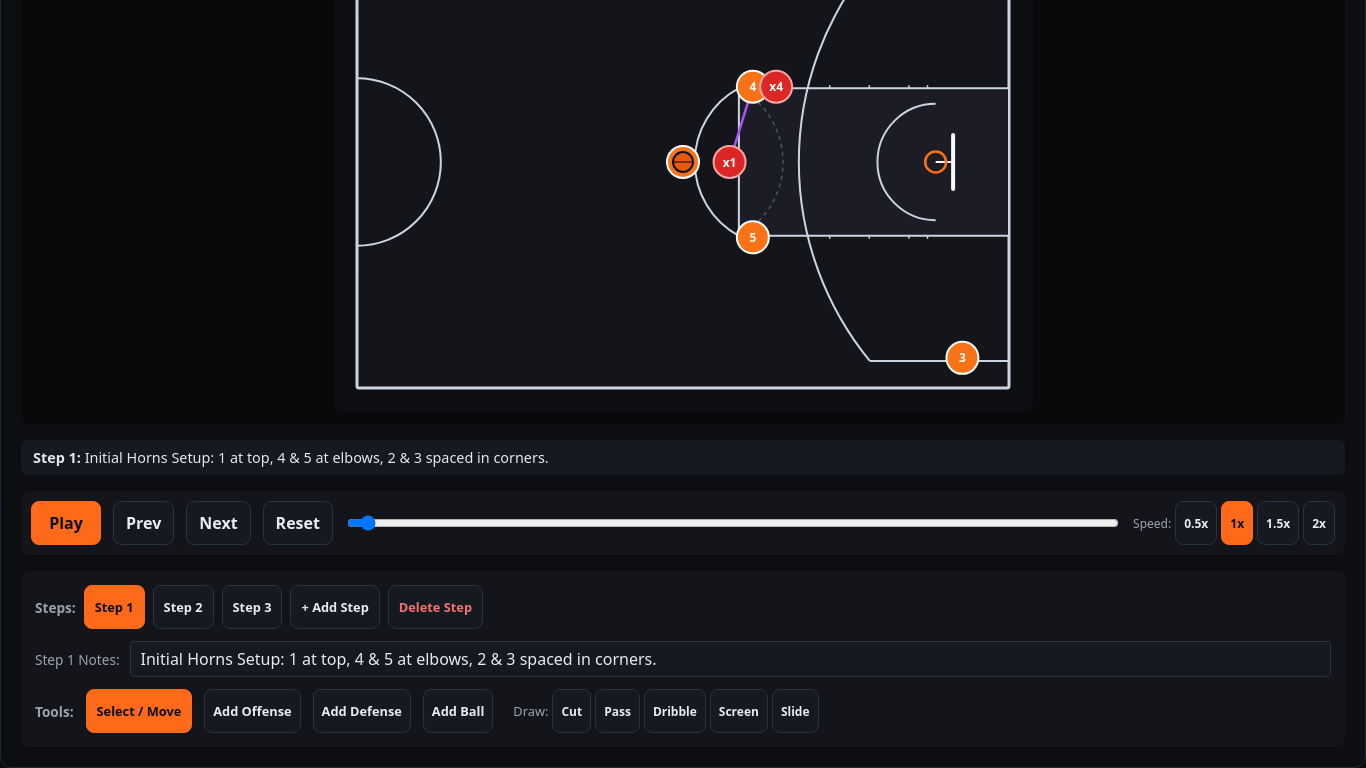
Scenario: Playbook Tactical Lab (WP-4.2) › toggles play/pause deterministic animation
(page scrolled)
Click the button "Play" at (66, 523), box [31,501,101,545]
Wait 500 ms
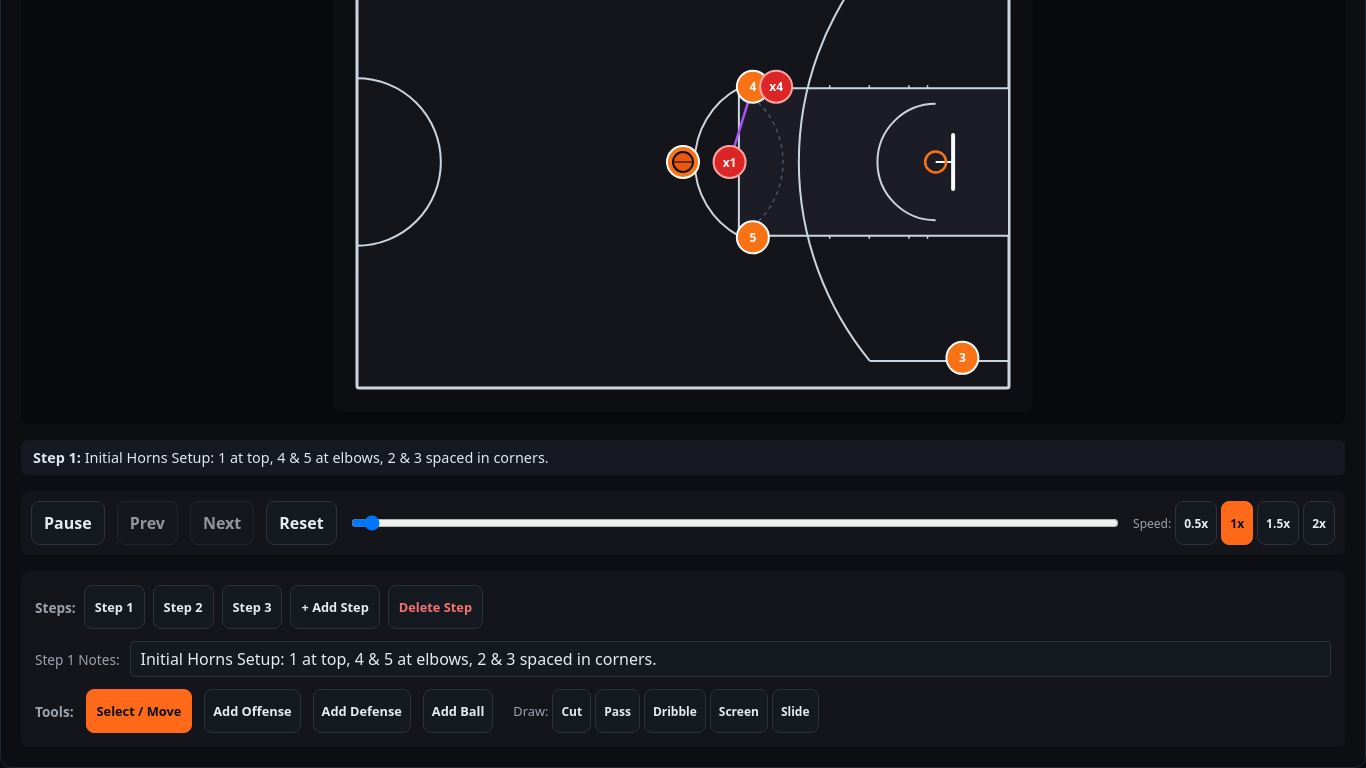
Check: the button "Pause" is shown
Note: Pause animation
Click the button "Pause" at (68, 523), box [31,501,105,545]
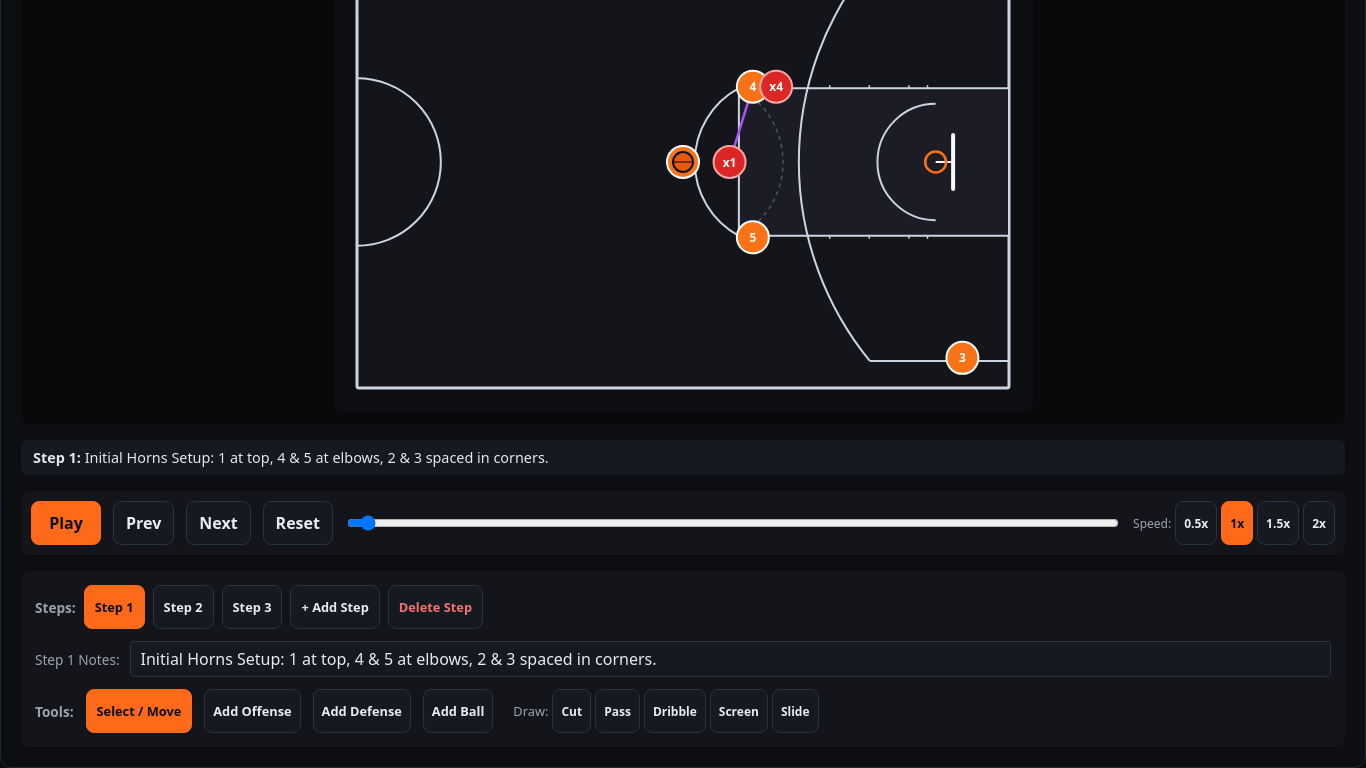
Check: the button "Play" is shown, box [31,501,101,545]
